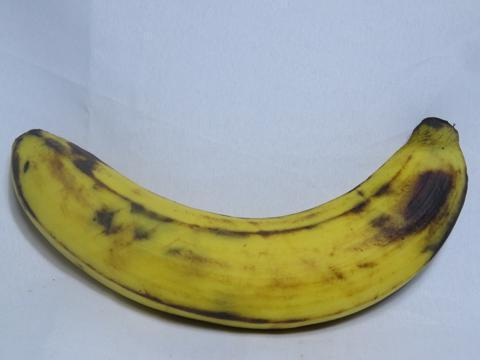ripe: (7, 94, 475, 346)
